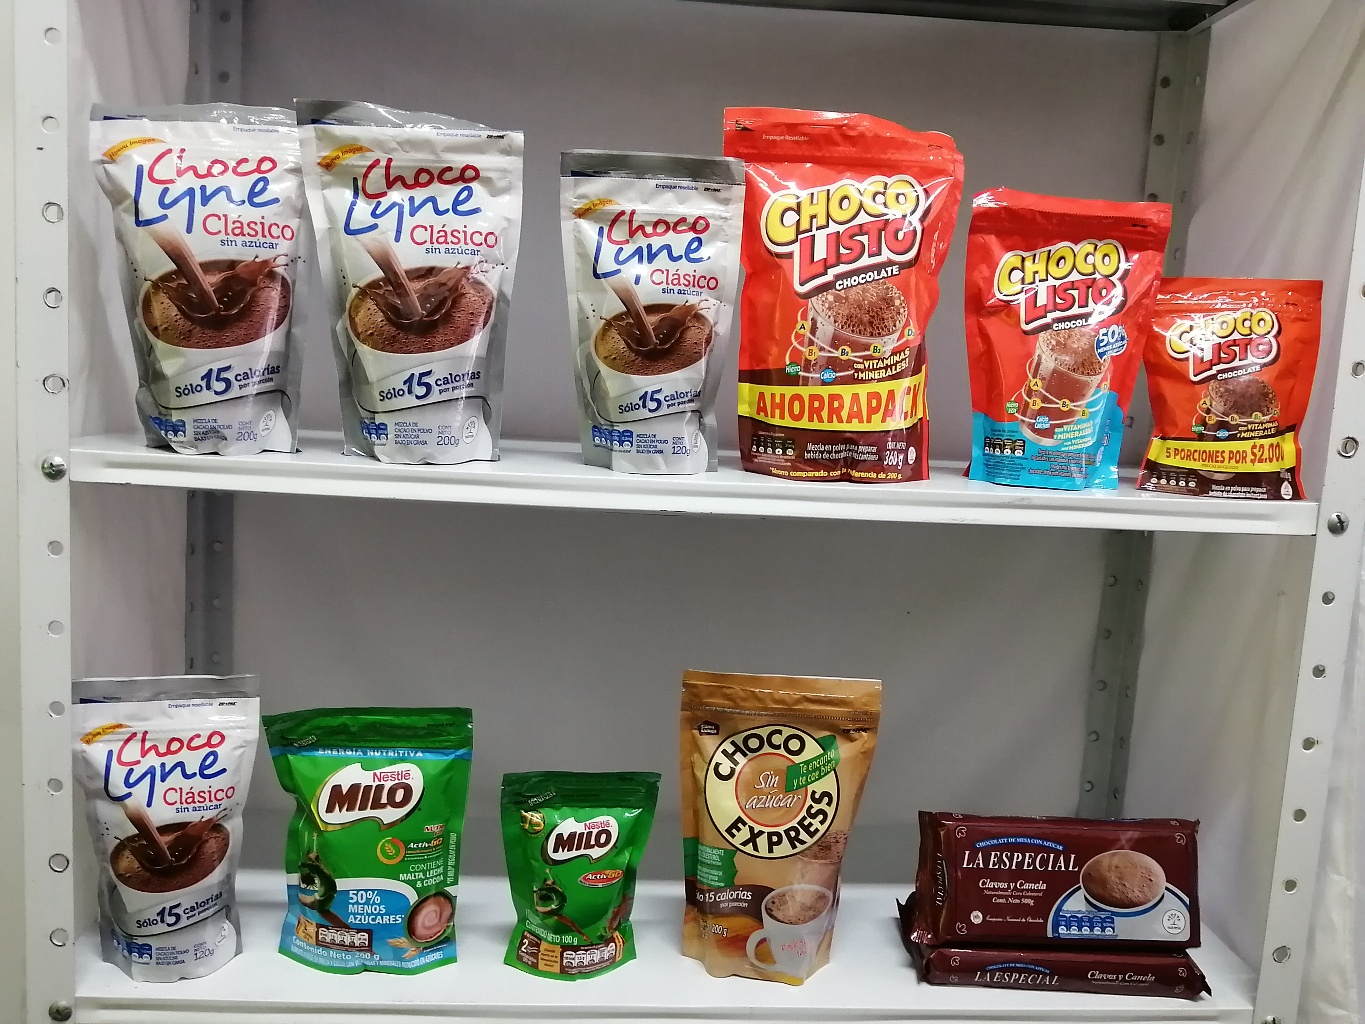COL0170103DYP36000: (713, 98, 959, 484)
COL0170104DYP20000: (964, 180, 1168, 507)
COL0170203DYP10000: (487, 762, 663, 982)
COL0170205DYP20000: (268, 688, 477, 983)
